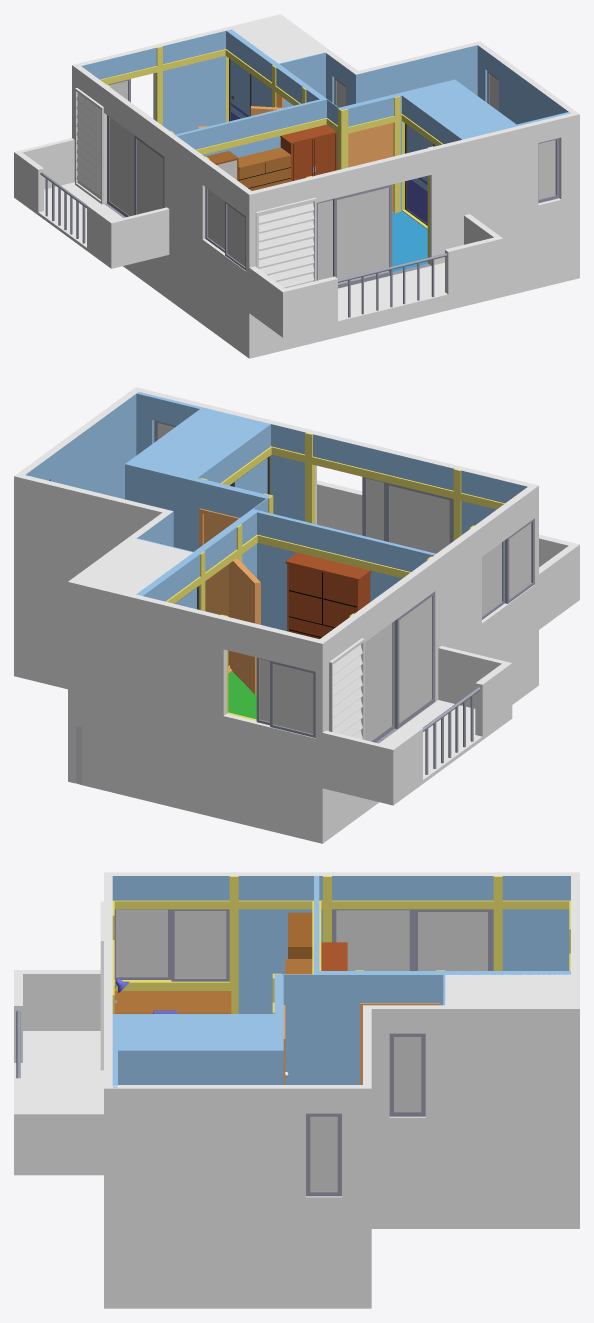
The model's file is house.glb.
The picture shows the model from 3 angles, top to bottom: view 1: azimuth 30°, elevation 25°; view 2: azimuth 150°, elevation 25°; view 3: azimuth 270°, elevation 25°; orthographic projection. The views are drawn at different scales.
Visible parts, largest first — view 1: entrada, habitacion.001, balcon_1, balcon_2, trasera, puerta_balcon_1, bañera.002, tabla_exterior_arriba_1, armario, pasillo.002, separador_habitaciones, bidet.002 (+22 smaller); view 2: trasera, habitacion.001, bañera.002, balcon_2, entrada, separador_habitaciones, bidet.002, pasillo.002, armario, escaleras_2, armario_sala, balcon_1 (+18 smaller); view 3: pasillo.002, bidet.002, habitacion.001, balcon_1, pasillo.003, escaleras_1, armario, entrada, puerta_balcon_3, puerta_balcon_4, ventana_escritorio_1, ventana_escritorio_2 (+15 smaller).
Part boxes in pixels (x1,y1,x2,y2): entrada: (246,112,579,358); habitacion.001: (72,63,251,355); balcon_1: (249,214,503,337); balcon_2: (14,138,169,268); trasera: (78,15,280,134); puerta_balcon_1: (333,184,392,288); bañera.002: (352,41,482,104); tabla_exterior_arriba_1: (255,197,316,287); armario: (402,83,512,143); pasillo.002: (477,43,576,124); separador_habitaciones: (175,99,321,157); bidet.002: (232,14,357,105); trasera: (72,580,319,841); habitacion.001: (315,487,534,843); bañera.002: (14,473,173,689); balcon_2: (322,646,512,805); entrada: (133,387,538,687); separador_habitaciones: (257,510,435,631); bidet.002: (68,512,192,783); pasillo.002: (18,389,138,499); armario: (136,409,270,483); escaleras_2: (125,461,269,551); armario_sala: (285,552,371,638); balcon_1: (317,480,579,629); pasillo.002: (111,1085,362,1308); bidet.002: (371,974,579,1228); habitacion.001: (112,872,579,1013); balcon_1: (14,970,103,1175); pasillo.003: (274,971,570,1084); escaleras_1: (112,1047,274,1084); armario: (112,1014,274,1047); entrada: (104,872,117,1308); puerta_balcon_3: (412,909,493,970); puerta_balcon_4: (332,909,411,970); ventana_escritorio_1: (171,909,229,981); ventana_escritorio_2: (114,909,171,979).
Size of the model in its own units: 67 by 27 by 63.
